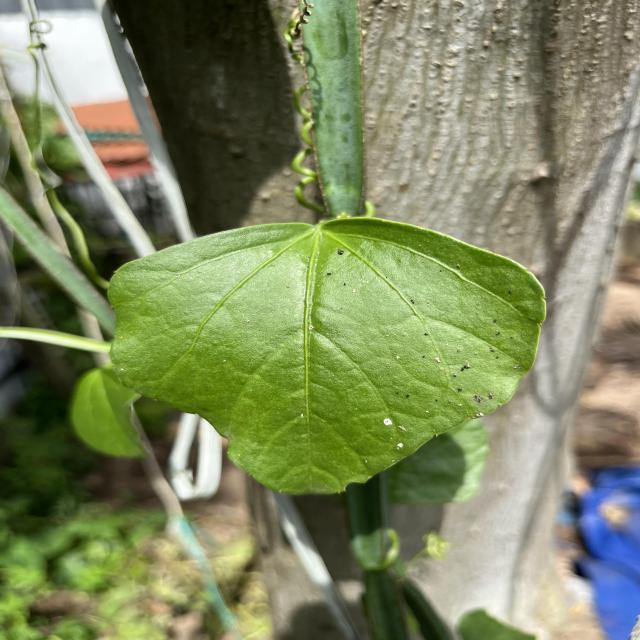Cissus quadrangularis: (104, 213, 552, 502)
